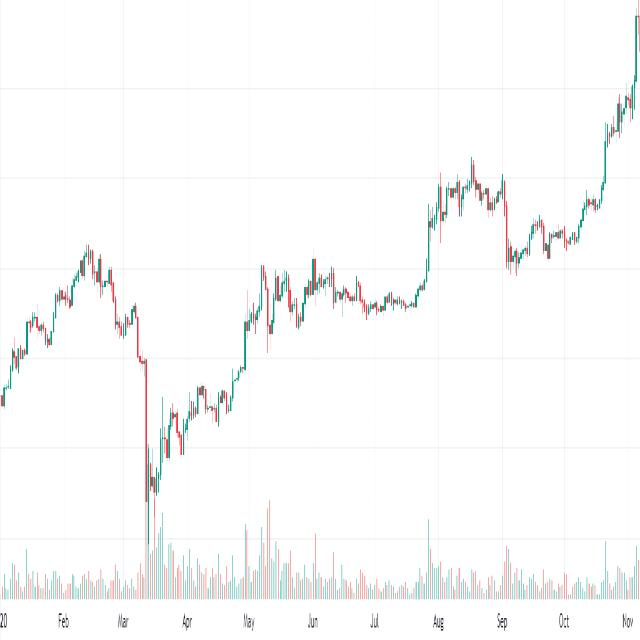Inverse-Head-Shoulders: (130, 291, 201, 527)
rectangle: (421, 150, 511, 247)
